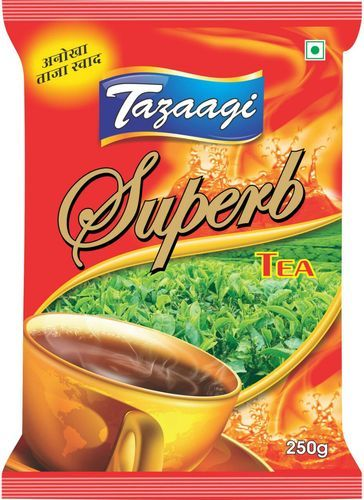VEG: (303, 38, 327, 62)
